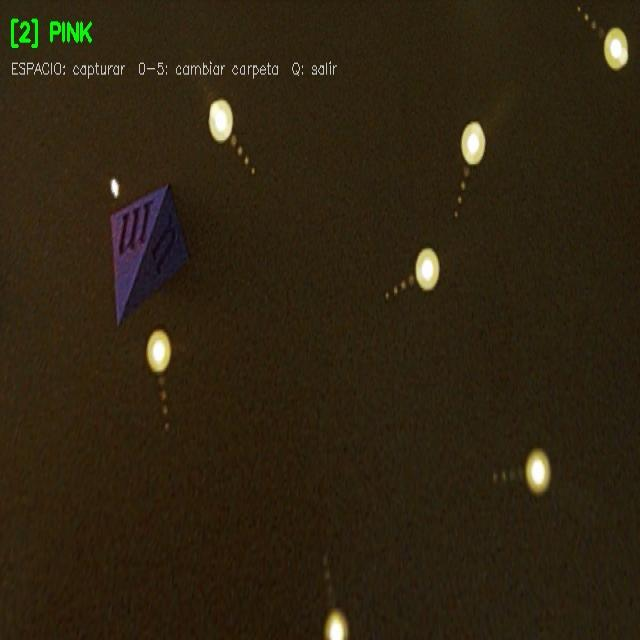pink: (111, 184, 188, 324)
